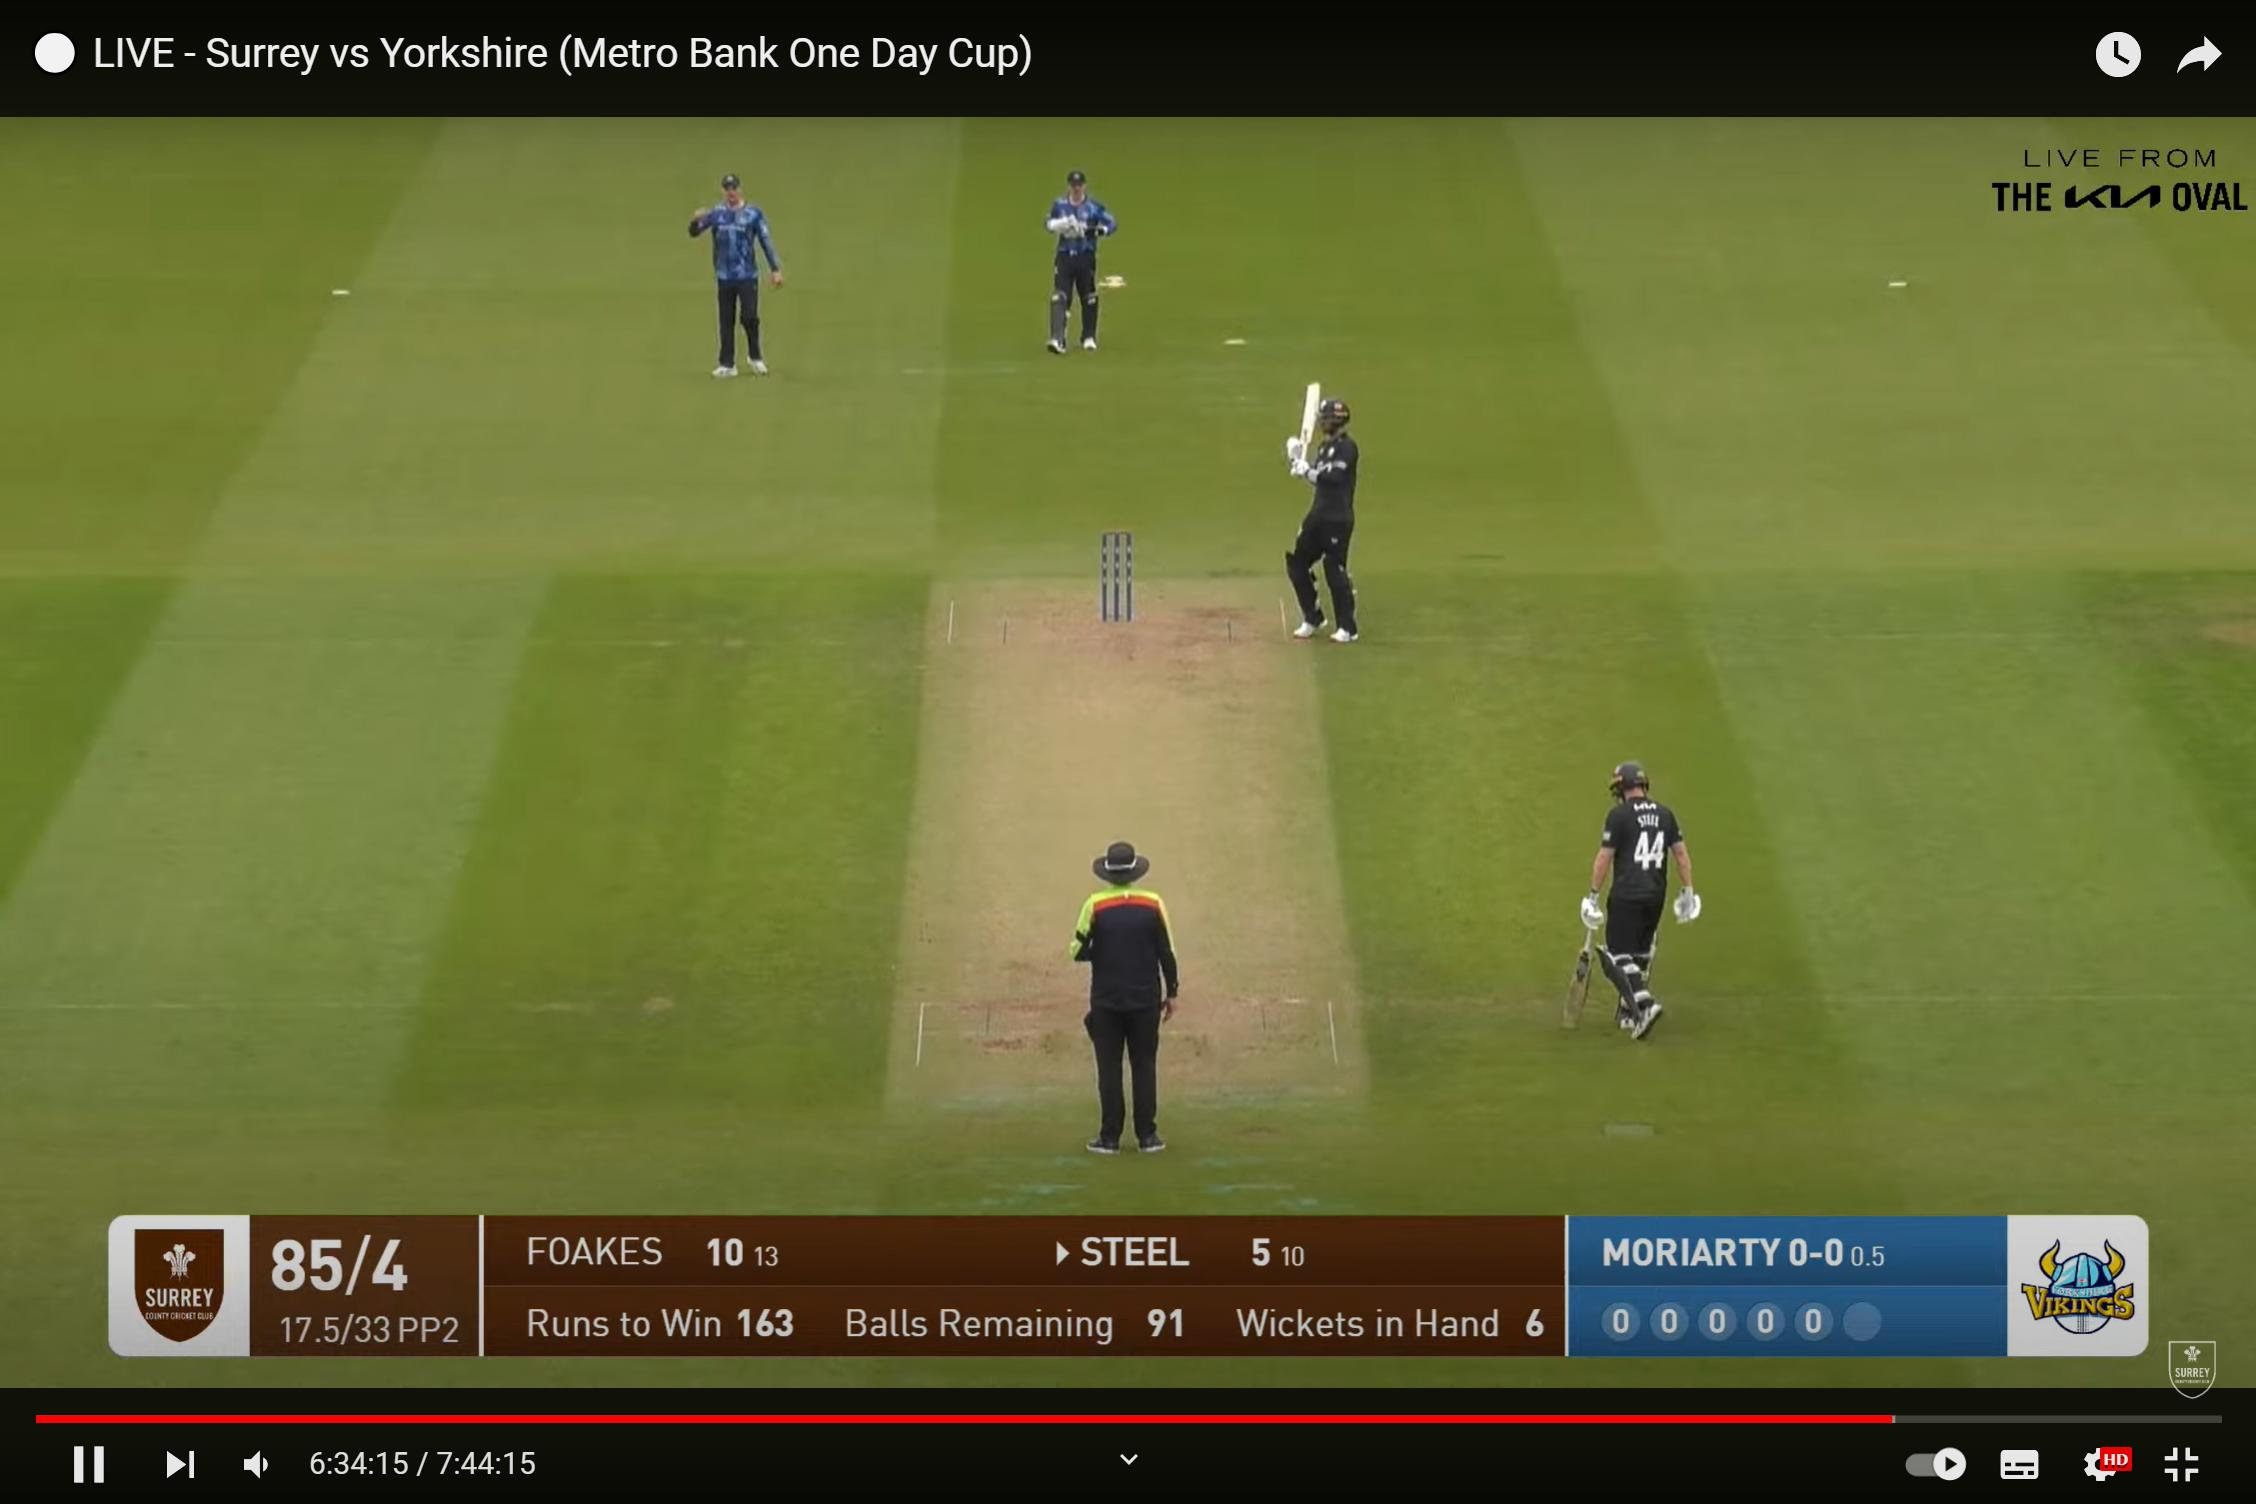batsman: (1262, 381, 1392, 646)
non striker: (1539, 722, 1715, 1066)
stumps: (1061, 509, 1162, 643)
umpire: (1005, 817, 1266, 1182)
wicket keeper: (1005, 178, 1130, 369)
